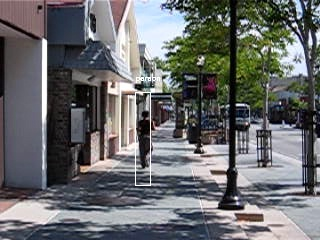person: (137, 110, 156, 168), (136, 110, 155, 168), (138, 110, 157, 168), (137, 109, 156, 167), (137, 111, 156, 169)
target_negative: (181, 77, 297, 151), (194, 136, 273, 219), (194, 55, 234, 184), (191, 150, 286, 202), (162, 101, 188, 176), (67, 155, 186, 165)
